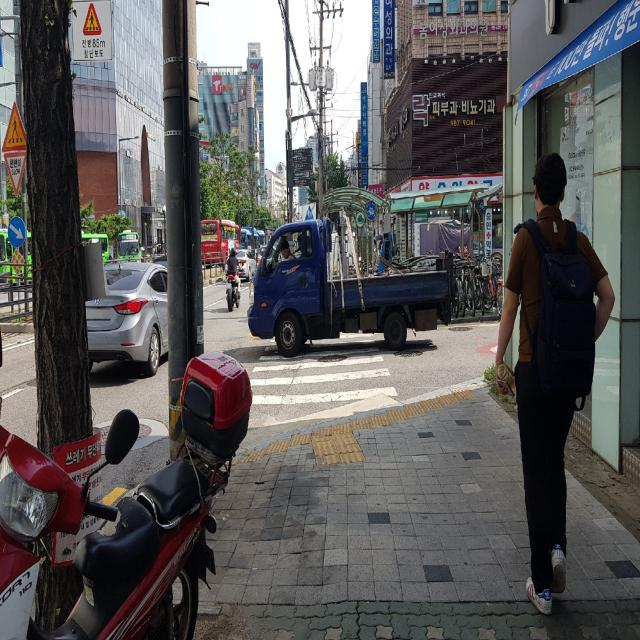횡단보도: (250, 330, 398, 404)
